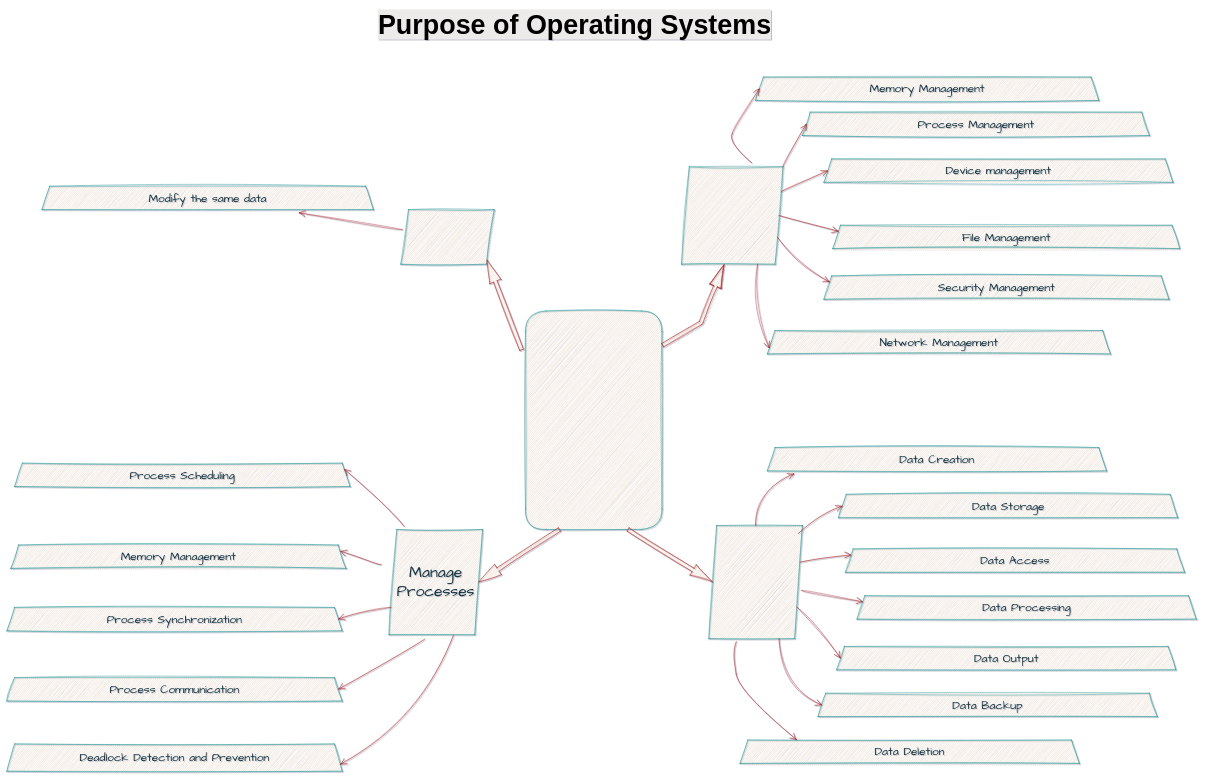
Image size: 1205x780. Some labels were removed from this diagram. Each missing label, with the centre of its shape:
"Data Lifecycle" goes at [755,582].
"Data Share" goes at [447,236].
"Perform specific activity or function" goes at [732,215].
"Propose of Operating Systems" goes at [593,420].
